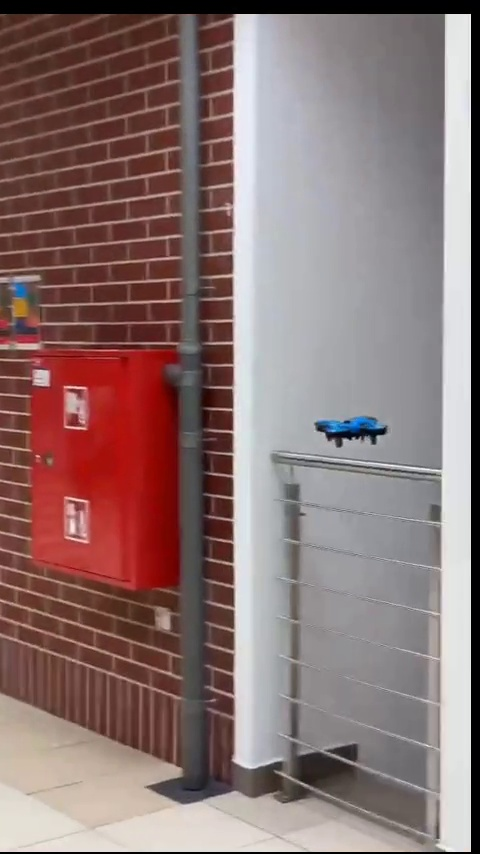drone: (319, 415, 385, 452)
